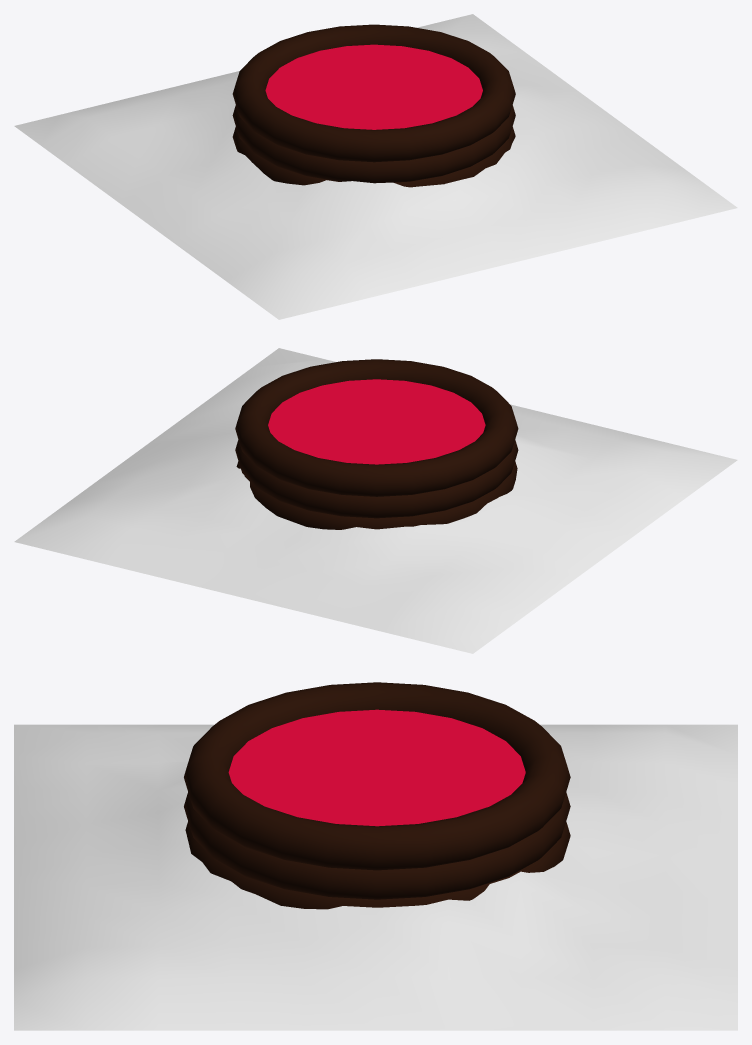
The model's file is SM_Pool.FBX.
The picture shows the model from 3 angles, top to bottom: view 1: azimuth 30°, elevation 25°; view 2: azimuth 150°, elevation 25°; view 3: azimuth 270°, elevation 25°; orthographic projection. The views are drawn at different scales.
Visible parts, largest first — view 1: Torus001, PoolWater; view 2: Torus001, PoolWater; view 3: Torus001, PoolWater.
Part boxes in pixels (left/top/right/bottom): Torus001: left=14, top=14, right=737, bottom=319; PoolWater: left=265, top=44, right=482, bottom=129; Torus001: left=14, top=348, right=737, bottom=653; PoolWater: left=268, top=379, right=485, bottom=464; Torus001: left=14, top=682, right=737, bottom=1030; PoolWater: left=228, top=709, right=525, bottom=826.
Size of the model in its own units: 500 by 91.84 by 500.
